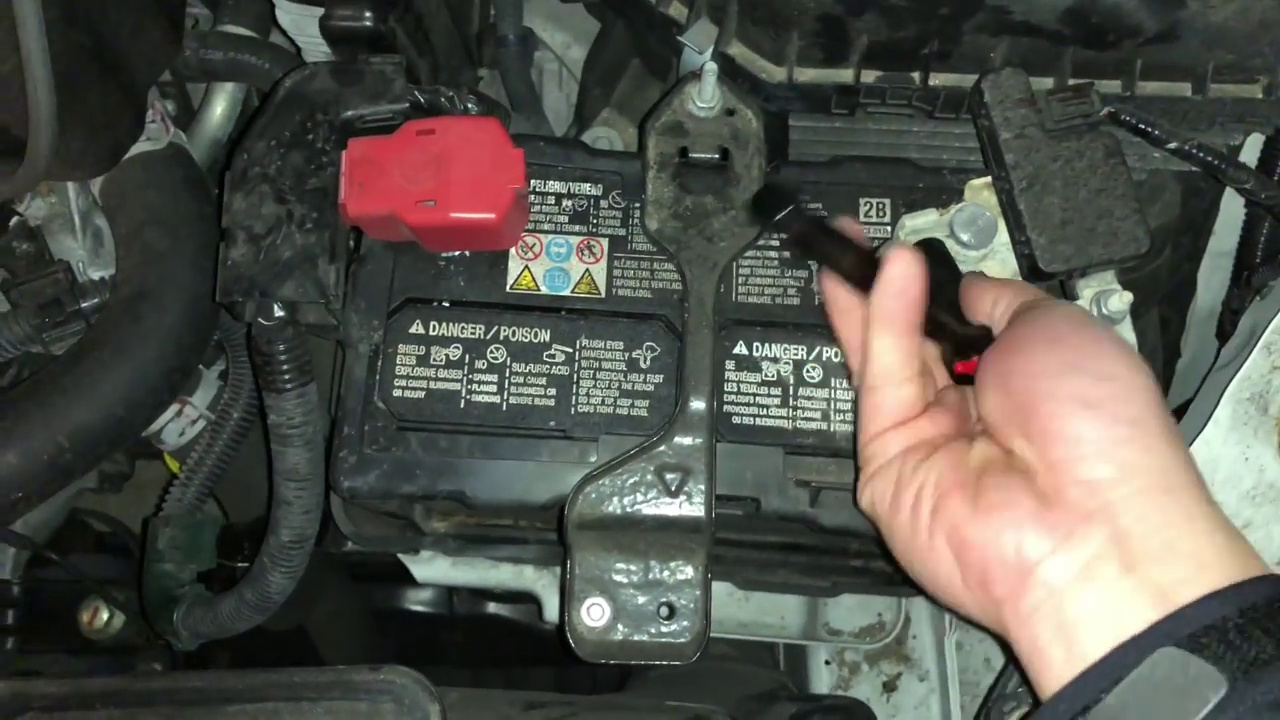battery: (336, 112, 1071, 568)
neg_touched: (857, 155, 1057, 436)
pos_connected: (335, 107, 550, 263)
